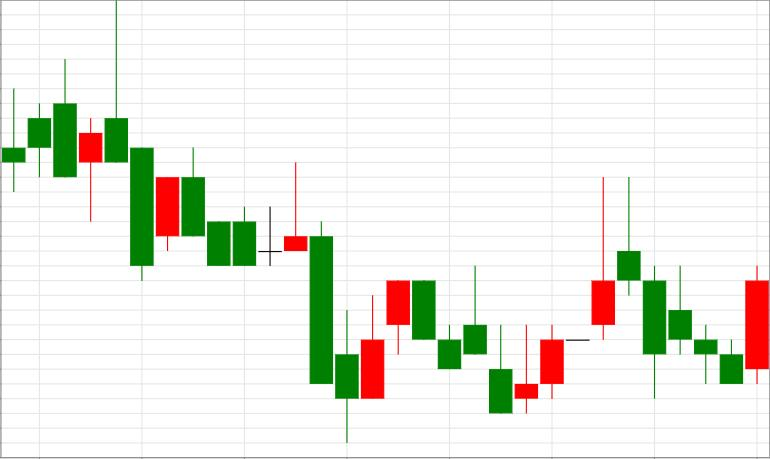shooting_star_fall: (489, 178, 641, 413)
